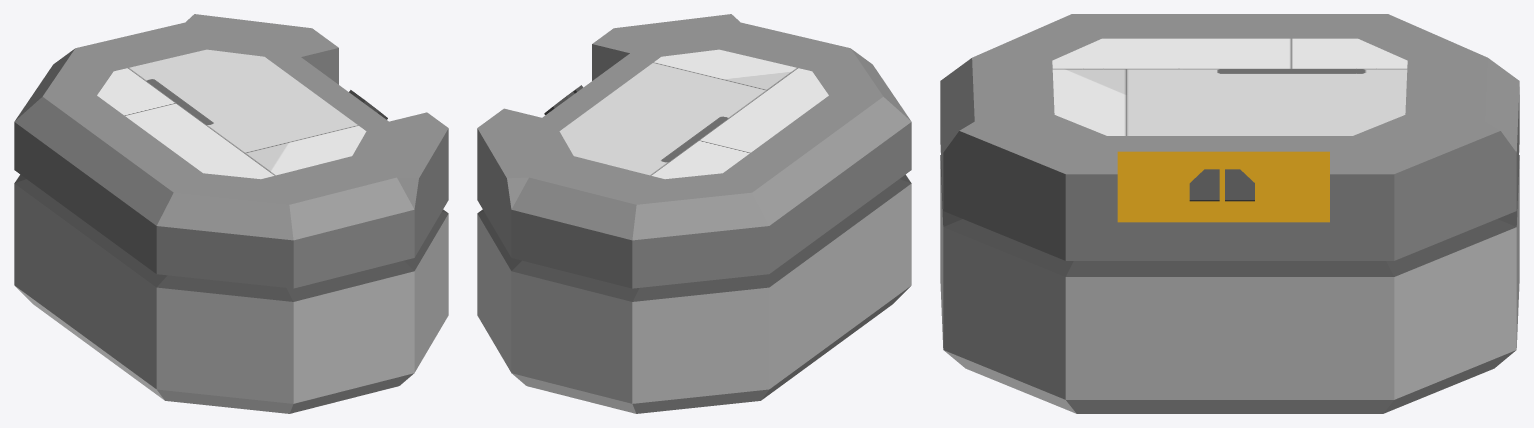
Rendered from SM_Container_Small_4.fbx.
3 renders of one model, left to right at view 1: azimuth 30°, elevation 25°; view 2: azimuth 150°, elevation 25°; view 3: azimuth 270°, elevation 25°, orthographic. The views are drawn at different scales.
Visible parts, largest first — view 1: SM_Container_Small_4; view 2: SM_Container_Small_4; view 3: SM_Container_Small_4.
Boxes of the visible parts, x1=… form: SM_Container_Small_4: x1=14, y1=14, x2=448, y2=413; SM_Container_Small_4: x1=477, y1=14, x2=911, y2=413; SM_Container_Small_4: x1=940, y1=14, x2=1519, y2=413.
Bounding box in the file's own units: 34.91 × 23.23 × 49.25.
